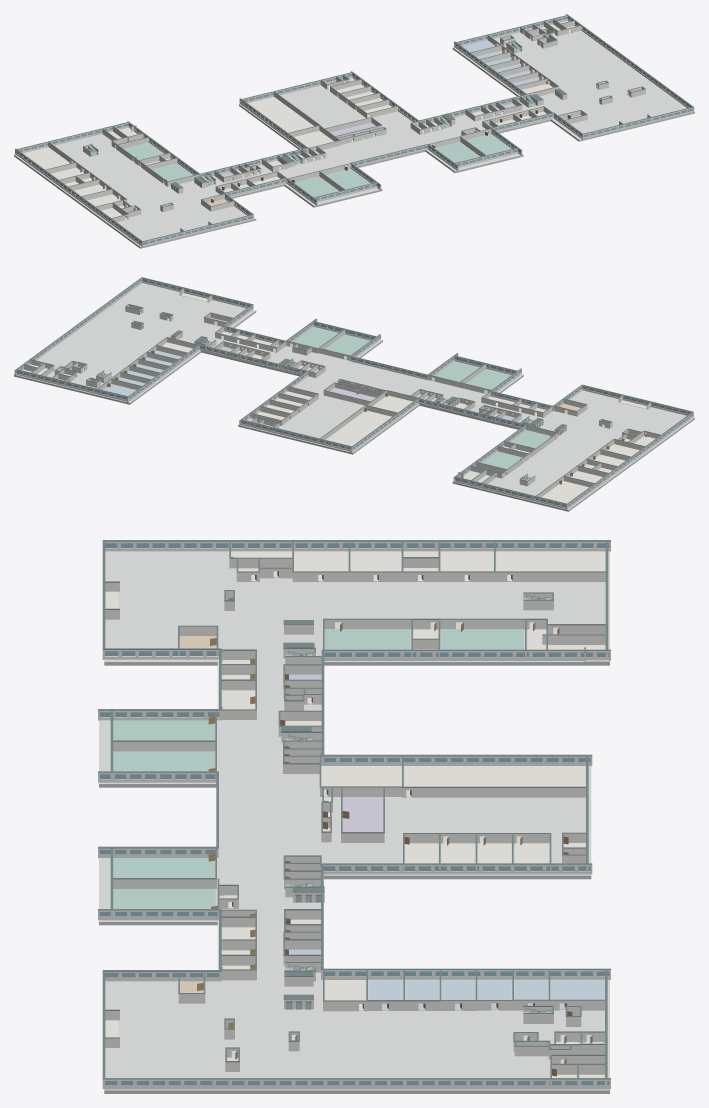
3 renders of one model, top to bottom at view 1: azimuth 30°, elevation 25°; view 2: azimuth 150°, elevation 25°; view 3: azimuth 270°, elevation 25°, orthographic. The views are drawn at different scales.
Visible parts, largest first — view 1: floor, wall, cap, room, glass, lecture, slab, machine, stair, door; view 2: floor, wall, cap, room, glass, lecture, slab, machine; view 3: floor, wall, cap, room, lecture, glass, slab, machine, door, place.
Part boxes in pixels (<box>): floor: <box>14,24,694,246</box>; wall: <box>15,15,694,246</box>; cap: <box>15,14,693,241</box>; room: <box>23,20,629,219</box>; glass: <box>16,16,692,244</box>; lecture: <box>123,134,511,197</box>; slab: <box>14,48,694,248</box>; machine: <box>462,40,541,85</box>; stair: <box>88,42,535,185</box>; door: <box>69,29,631,210</box>; floor: <box>14,283,694,509</box>; wall: <box>14,278,693,509</box>; cap: <box>15,277,693,504</box>; room: <box>23,293,655,503</box>; glass: <box>16,279,692,507</box>; lecture: <box>290,326,554,468</box>; slab: <box>14,311,694,511</box>; machine: <box>103,350,181,396</box>; floor: <box>99,551,609,1090</box>; wall: <box>98,541,610,1089</box>; cap: <box>98,540,610,1079</box>; room: <box>106,551,609,1077</box>; lecture: <box>114,629,523,908</box>; glass: <box>99,543,609,1085</box>; slab: <box>99,662,609,1093</box>; machine: <box>368,979,604,1010</box>; door: <box>197,557,592,1076</box>; place: <box>342,797,383,831</box>.
Size of the model in its own units: 2082 by 30.49 by 834.
